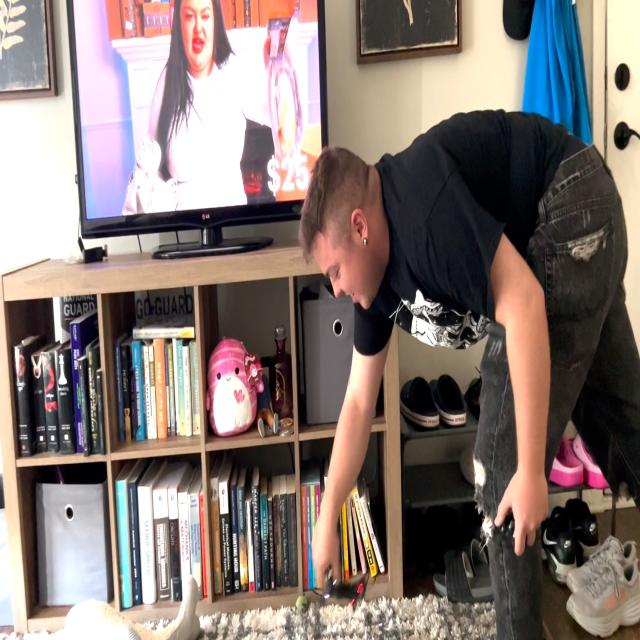drone: (308, 559, 378, 628)
